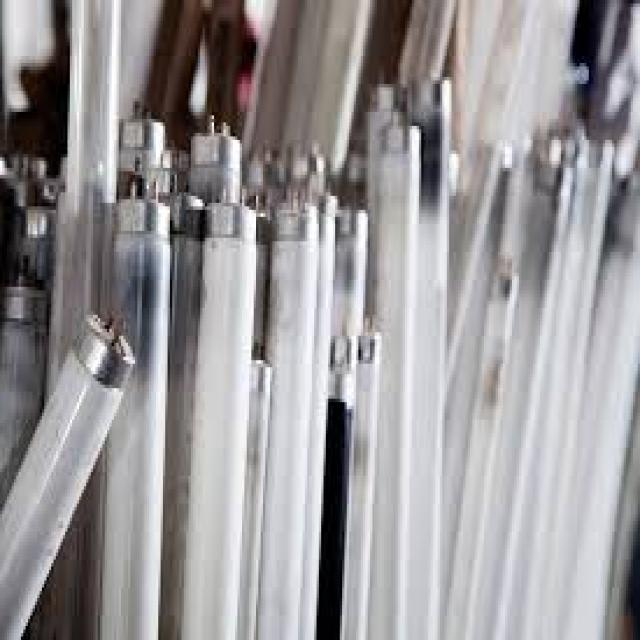Hazard: (14, 78, 633, 640)
